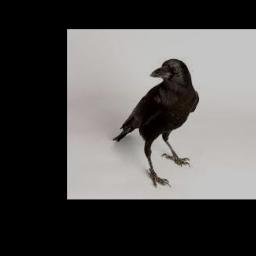Crow: (113, 58, 200, 189)
